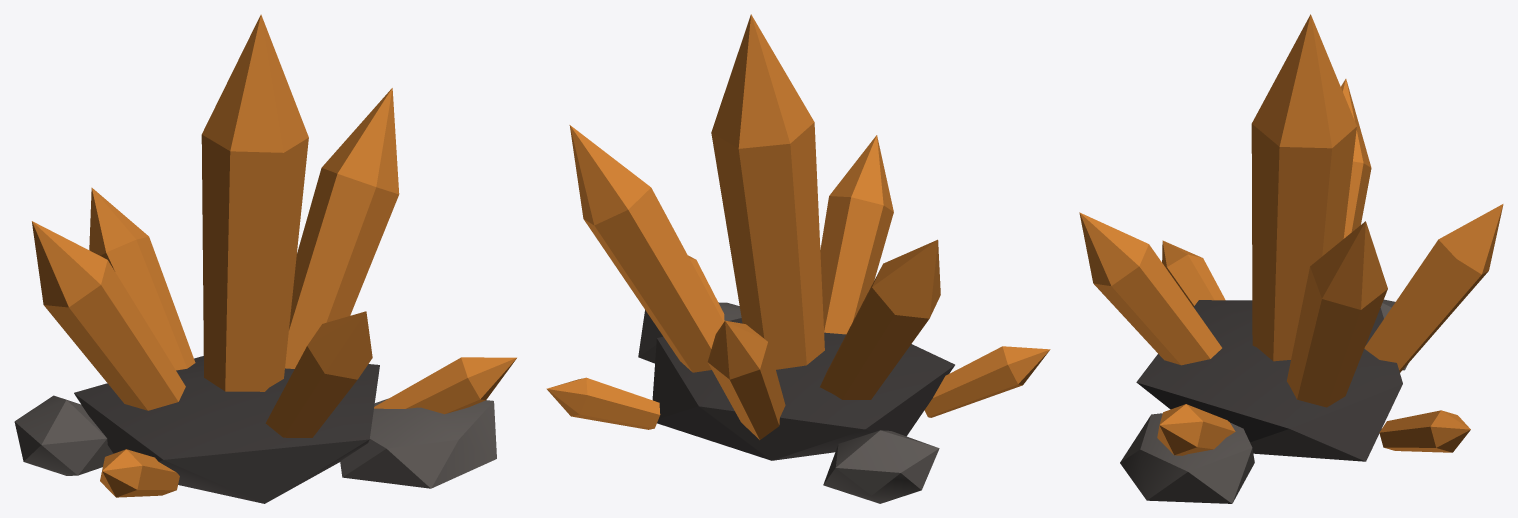
Rendered from heart_crystals.fbx.
The picture shows the model from 3 angles, left to right: view 1: azimuth 30°, elevation 25°; view 2: azimuth 150°, elevation 25°; view 3: azimuth 270°, elevation 25°; orthographic projection. The views are drawn at different scales.
Parts seen in each view (by area): view 1: heart_crystals; view 2: heart_crystals; view 3: heart_crystals.
Part boxes in pixels (x1,y1,x2,y2): heart_crystals: (14,14,516,503); heart_crystals: (546,14,1050,503); heart_crystals: (1079,14,1503,503).
Bounding box in the file's own units: 2.31 × 2.38 × 2.09.
